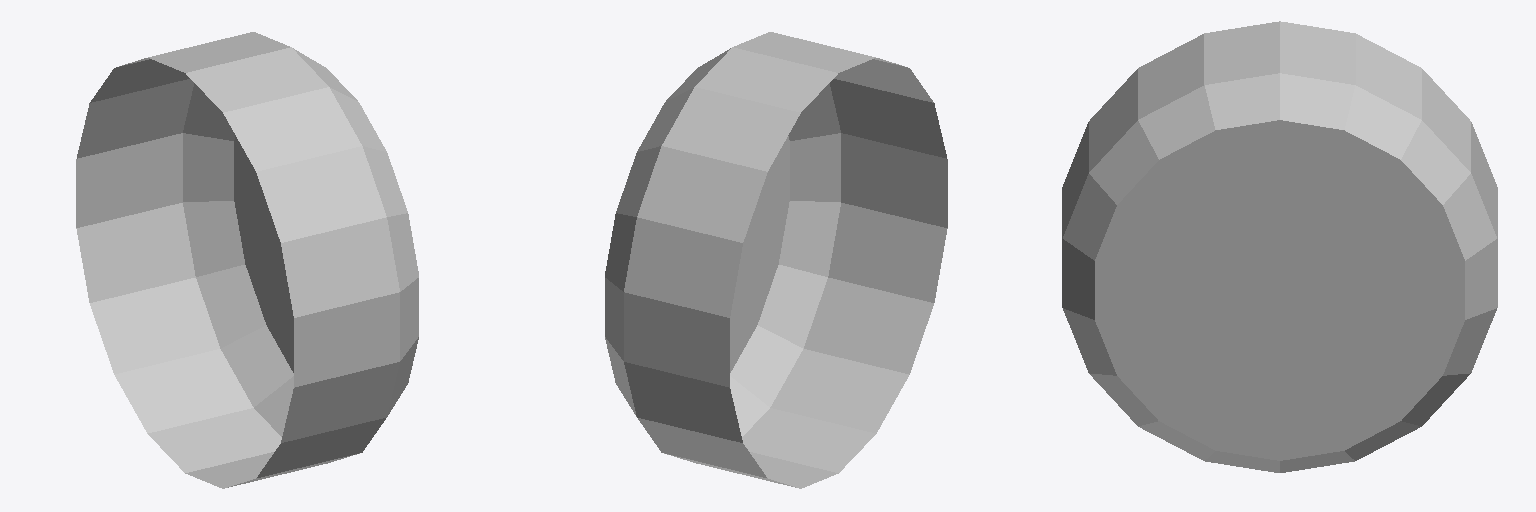
Rendered from Tire front left unwrapped.obj.
3 renders of one model, left to right at view 1: azimuth 30°, elevation 25°; view 2: azimuth 150°, elevation 25°; view 3: azimuth 270°, elevation 25°, orthographic.
Parts seen in each view (by area): view 1: Wheel_front_left; view 2: Wheel_front_left; view 3: Wheel_front_left.
Part boxes in pixels (x1,y1,x2,y2): Wheel_front_left: (76, 32, 418, 488); Wheel_front_left: (605, 32, 947, 488); Wheel_front_left: (1062, 21, 1497, 472).
Bounding box in the file's own units: 12.7 × 34.28 × 33.76.